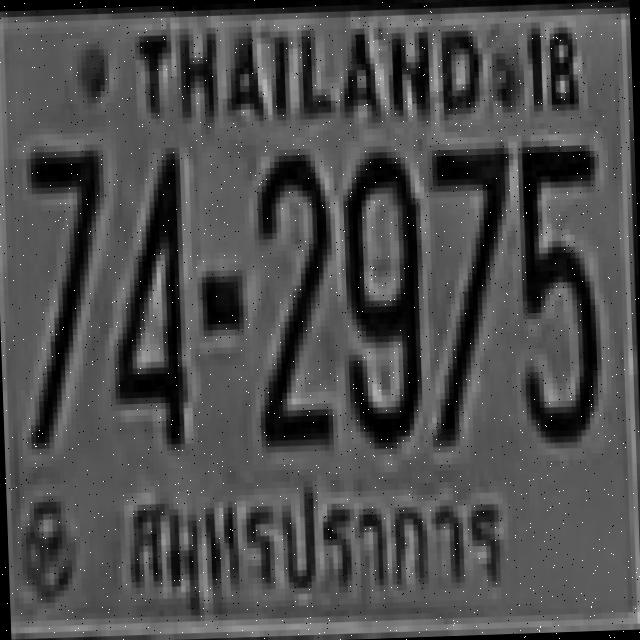2: (251, 148, 332, 405)
4: (102, 144, 189, 443)
5: (510, 139, 601, 438)
7: (427, 139, 512, 414), (25, 144, 106, 395), (427, 142, 511, 370), (427, 142, 510, 340), (26, 144, 104, 354), (26, 144, 104, 324)
9: (336, 145, 424, 444)
SamutPrakan: (104, 460, 522, 634)
